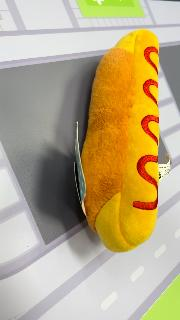hotdog: (78, 28, 162, 254)
